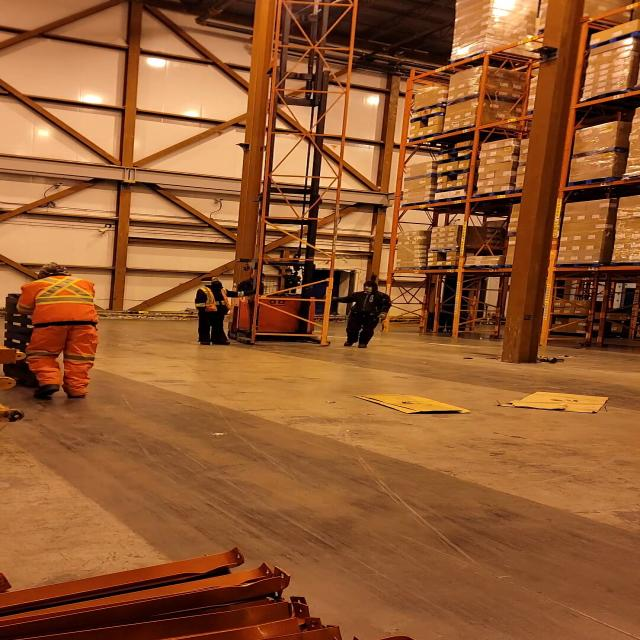forklift: (223, 192, 336, 348)
human: (190, 272, 258, 347), (334, 270, 395, 352), (233, 271, 269, 296)
objectofinterest: (236, 42, 339, 352), (2, 294, 50, 390), (354, 389, 474, 416), (492, 388, 616, 413)
